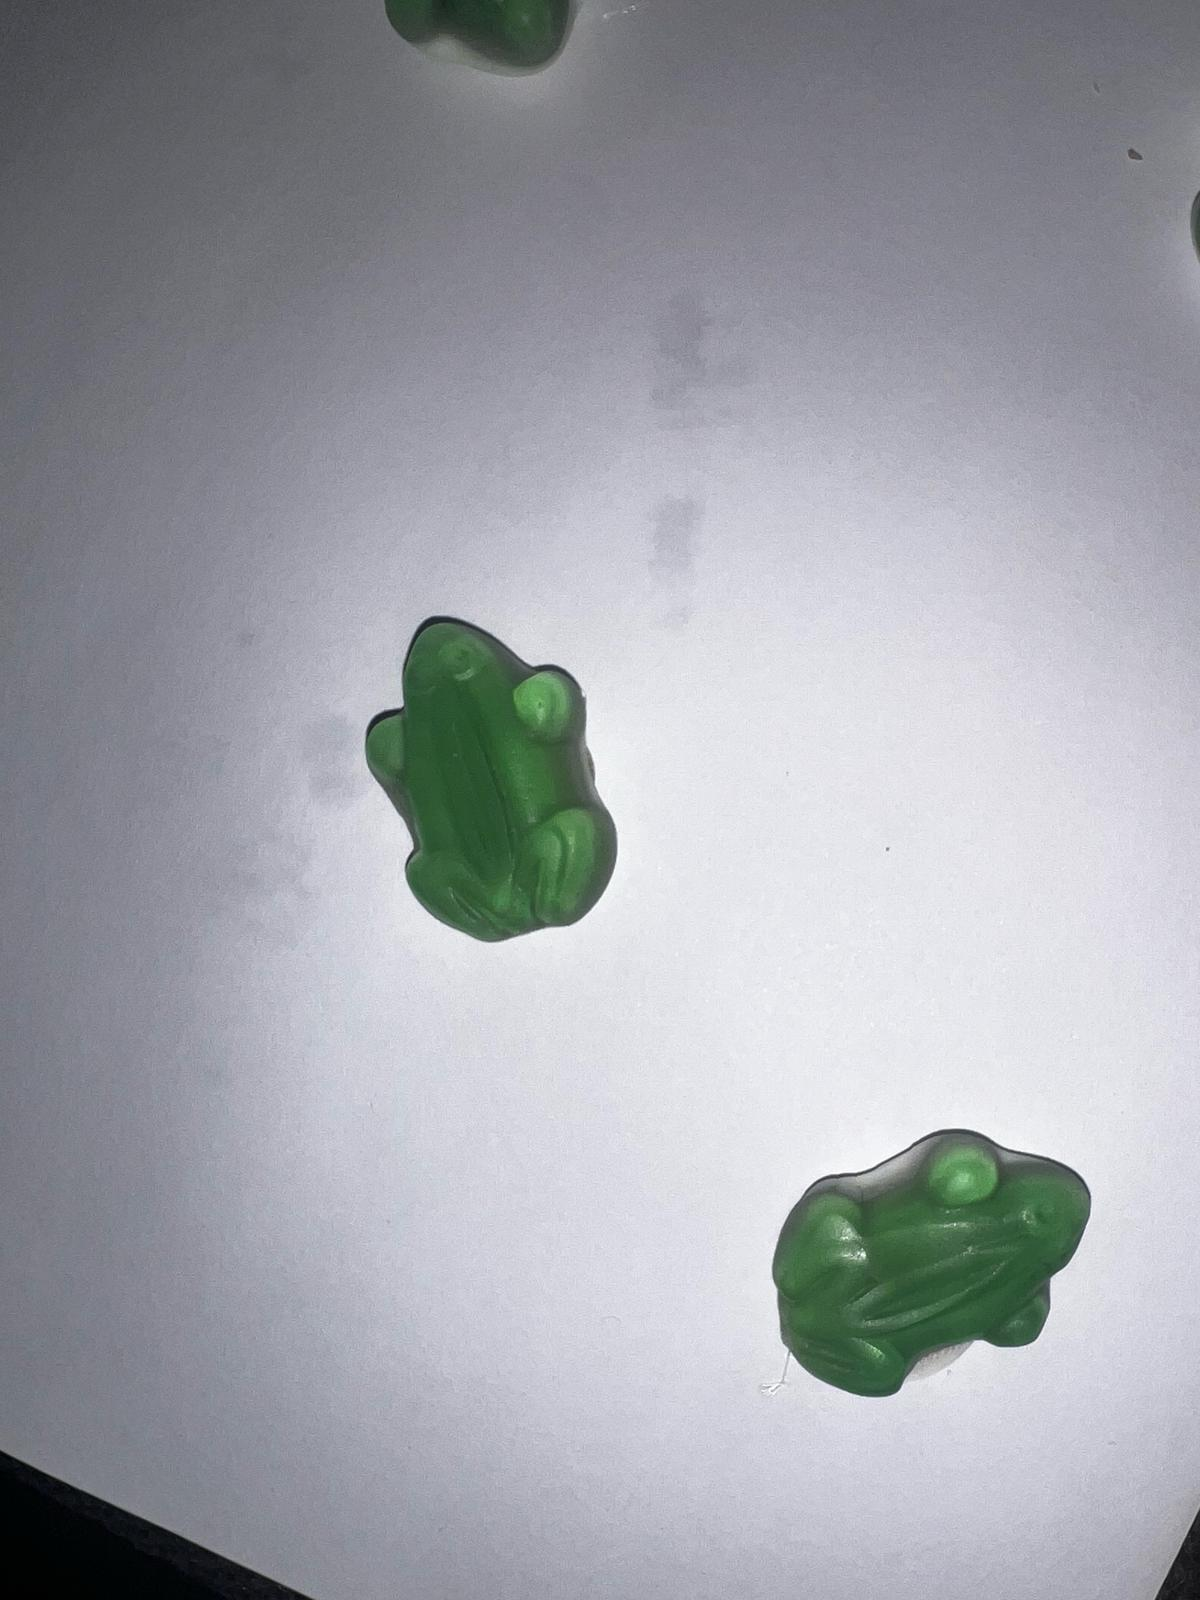frog: (755, 1124, 1100, 1405), (354, 611, 633, 947)
